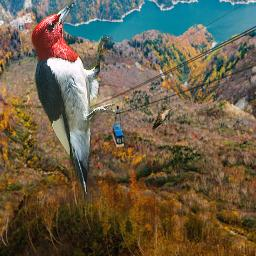Cuckoo: (151, 108, 171, 131)
Woodpecker: (30, 0, 115, 203)
